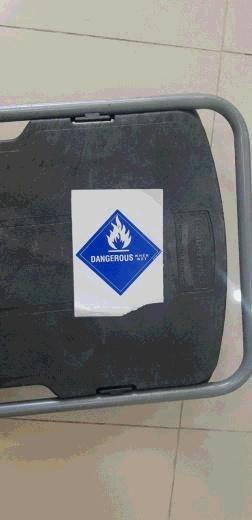dangerous-when-wet: (75, 208, 161, 296)
